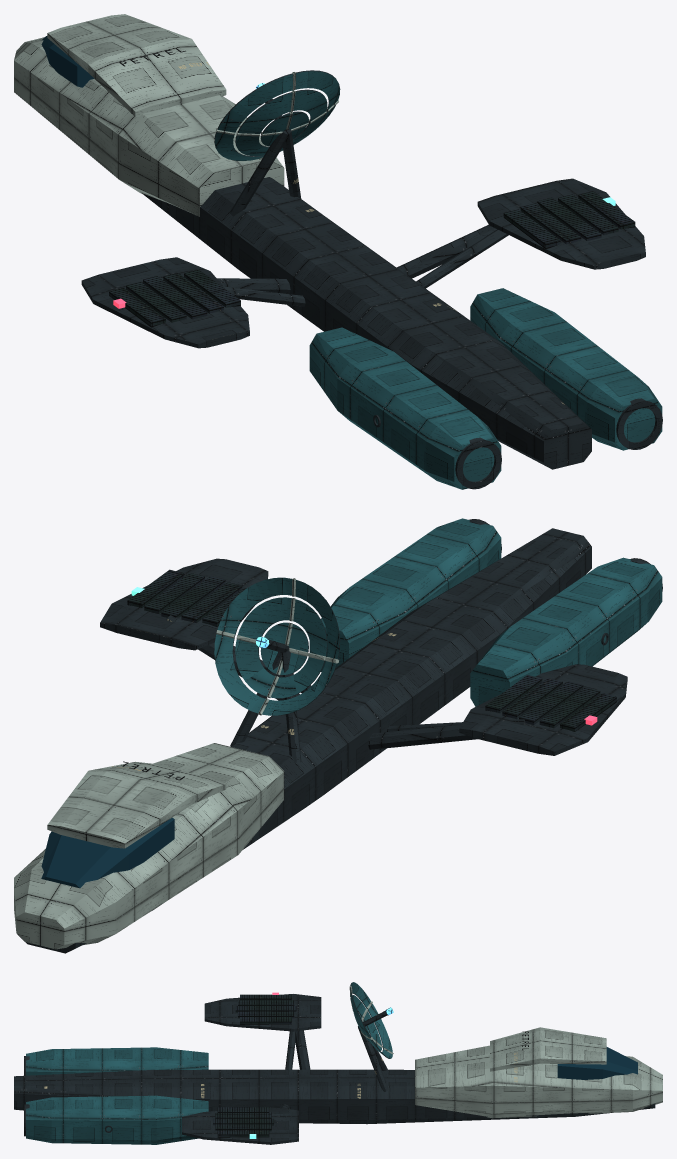
File: ship_petrel.glb
The picture shows the model from 3 angles, top to bottom: view 1: azimuth 30°, elevation 25°; view 2: azimuth 150°, elevation 25°; view 3: azimuth 270°, elevation 25°; orthographic projection. The views are drawn at different scales.
Parts seen in each view (by area): view 1: Frame, Teal, Cream, Thermal, Glass; view 2: Frame, Teal, Cream, Thermal, Glass; view 3: Frame, Cream, Teal, Thermal, Glass.
Boxes of the visible parts, box(x1,y1,x2,y2) form: Frame: box(81, 70, 662, 489); Teal: box(215, 71, 662, 489); Cream: box(14, 14, 338, 216); Thermal: box(109, 191, 635, 327); Glass: box(41, 36, 94, 87); Frame: box(17, 519, 662, 953); Teal: box(214, 518, 662, 715); Cream: box(14, 578, 338, 949); Thermal: box(127, 569, 616, 731); Glass: box(41, 817, 174, 888); Frame: box(14, 983, 655, 1144); Cream: box(349, 986, 662, 1118); Teal: box(26, 982, 392, 1144); Thermal: box(213, 994, 296, 1137); Glass: box(557, 1047, 637, 1079).
Size of the model in its own units: 14.02 by 5.7 by 25.9.
Materials: 8 (6 with a texture image).
